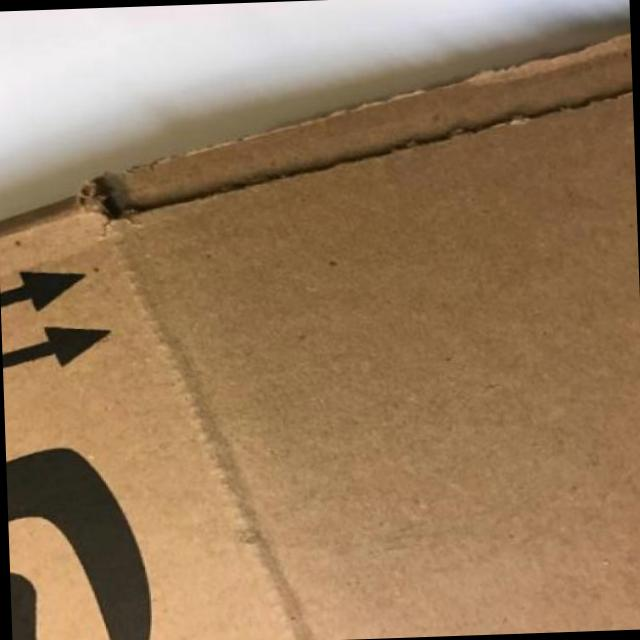cardboard paper: (0, 37, 640, 640)
